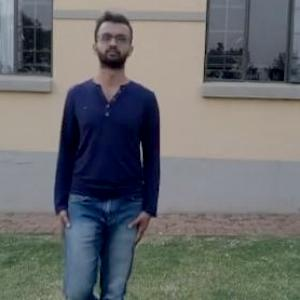follow: (56, 20, 162, 274)
